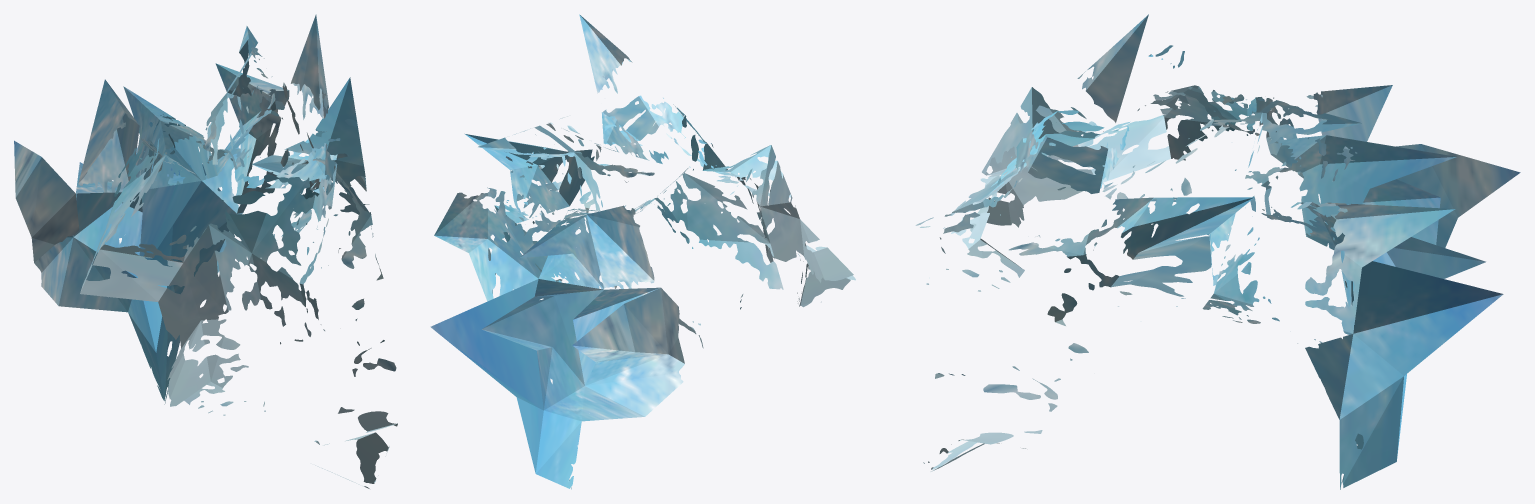
Rendered from wolverine_ltshoulder_ice.glb.
3 renders of one model, left to right at view 1: azimuth 30°, elevation 25°; view 2: azimuth 150°, elevation 25°; view 3: azimuth 270°, elevation 25°, orthographic. The views are drawn at different scales.
Visible parts, largest first — view 1: wolverine_ltshoulder_ice_0; view 2: wolverine_ltshoulder_ice_0; view 3: wolverine_ltshoulder_ice_0.
Part boxes in pixels (x1,y1,x2,y2): wolverine_ltshoulder_ice_0: [14, 14, 397, 488]; wolverine_ltshoulder_ice_0: [430, 14, 855, 489]; wolverine_ltshoulder_ice_0: [915, 14, 1520, 489].
Bounding box in the file's own units: 9.54 × 12.83 × 14.08.
1 material, 1 textured.
